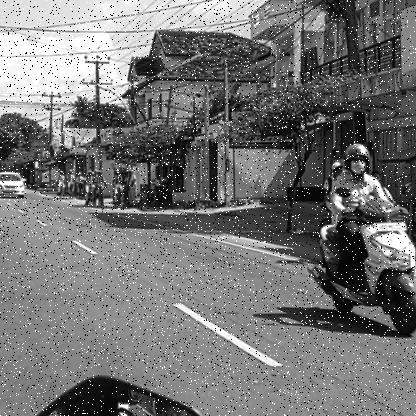motorcycle: (305, 199, 416, 338)
